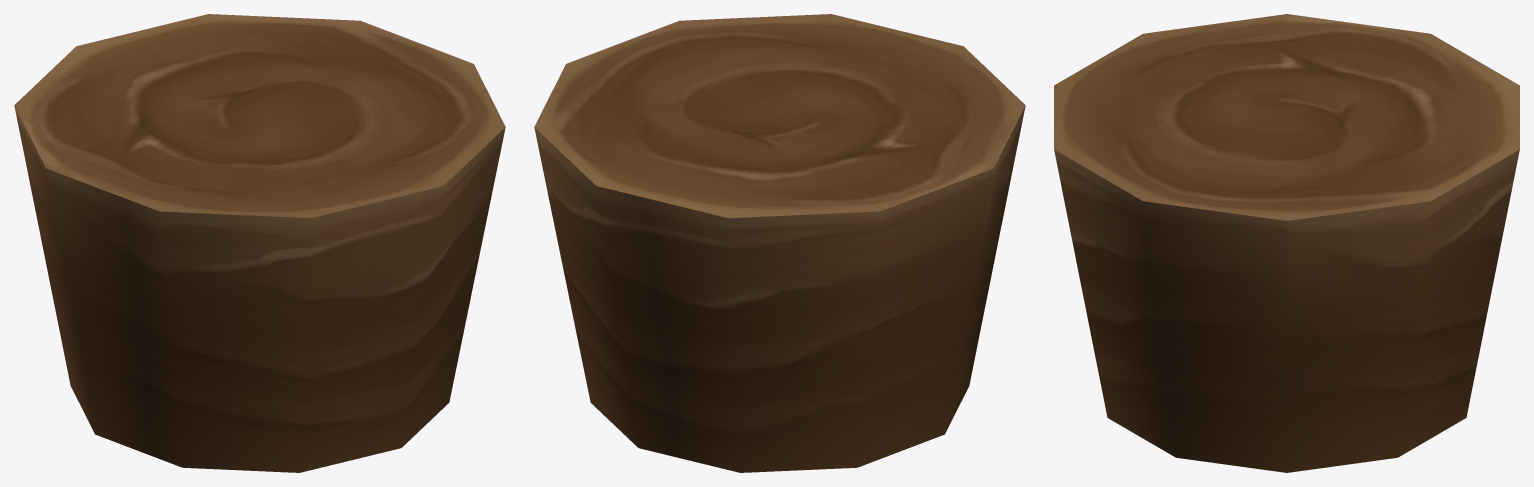
The model's file is Flask_cover.FBX.
The picture shows the model from 3 angles, left to right: view 1: azimuth 30°, elevation 25°; view 2: azimuth 150°, elevation 25°; view 3: azimuth 270°, elevation 25°; orthographic projection.
Visible parts, largest first — view 1: Flask_cover; view 2: Flask_cover; view 3: Flask_cover.
Boxes of the visible parts, x1=… form: Flask_cover: x1=14, y1=14, x2=505, y2=472; Flask_cover: x1=534, y1=14, x2=1025, y2=472; Flask_cover: x1=1054, y1=14, x2=1519, y2=472.
Size of the model in its own units: 101 by 62.98 by 96.44.
